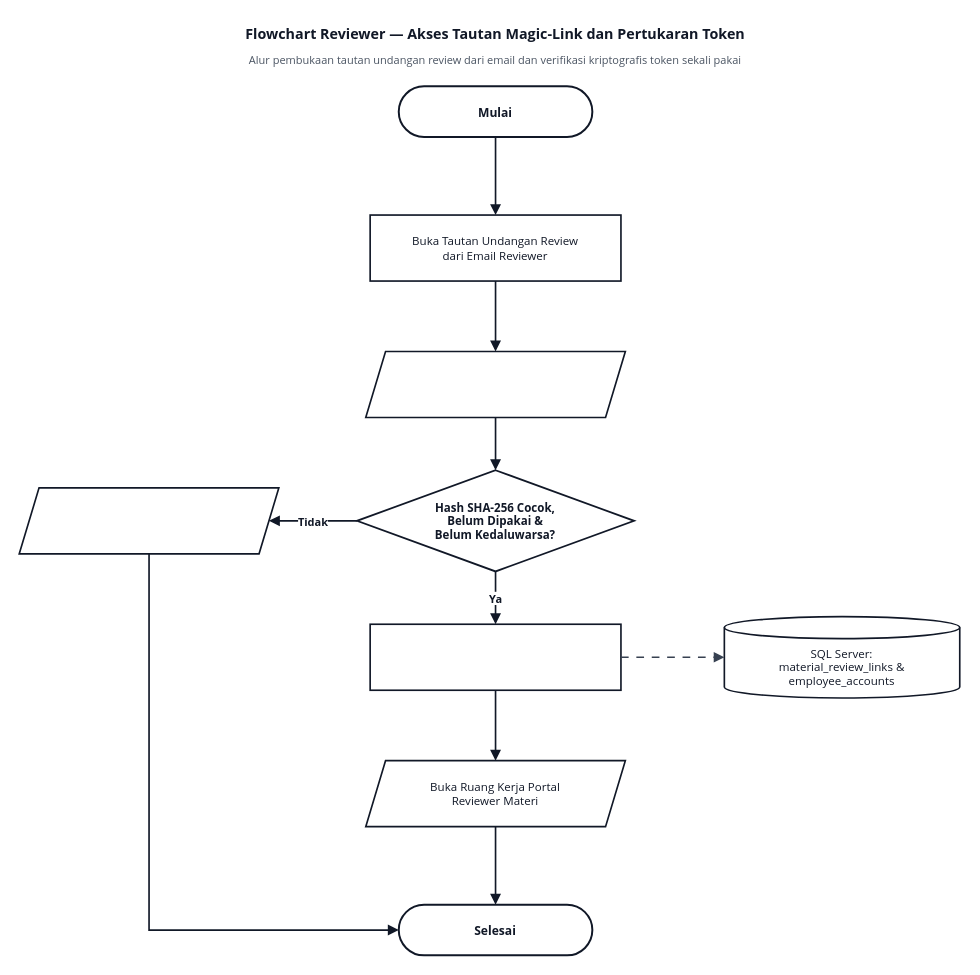
The diagram is 980 pixels wide and 975 high, and some of its shapes have lost their labels. Each missing label, with the centre of its shape:
"Kirim Token Tautan Review untuk Verifikasi Sesi" goes at (495,384).
"Kunci consumed_at pada Tautan & Terbitkan JWT Sesi Reviewer (2 Jam)" goes at (495,657).
"Tampilkan Halaman Tautan Kedaluwarsa / Sudah Dipakai (410)" goes at (148,520).
